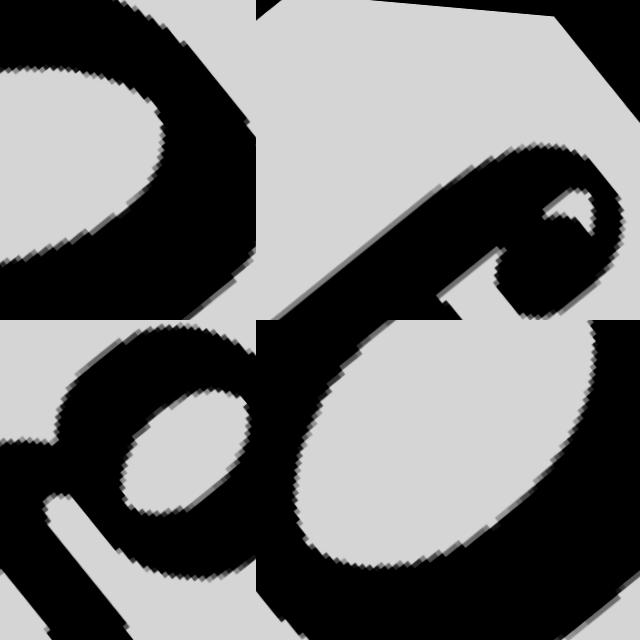6: (256, 51, 640, 320)
G: (0, 320, 256, 640)
O: (256, 320, 640, 640)
